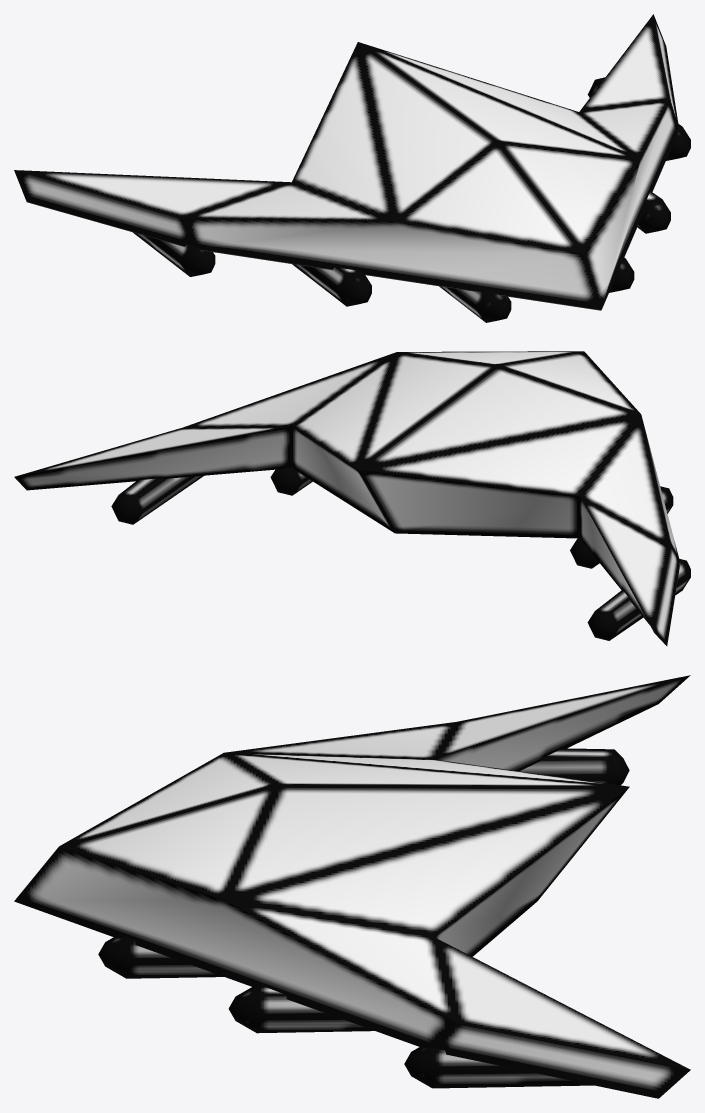
The model's file is Aircraft3.obj.
3 renders of one model, top to bottom at view 1: azimuth 30°, elevation 25°; view 2: azimuth 150°, elevation 25°; view 3: azimuth 270°, elevation 25°, orthographic. The views are drawn at different scales.
Visible parts, largest first — view 1: Box16; view 2: Box16; view 3: Box16.
Boxes of the visible parts, x1,y1,x2,y2 form: Box16: (14,14,690,322); Box16: (14,351,690,646); Box16: (14,675,690,1098).
Size of the model in its own units: 4.45 by 0.86 by 3.23.
Materials: 1 (1 with a texture image).
